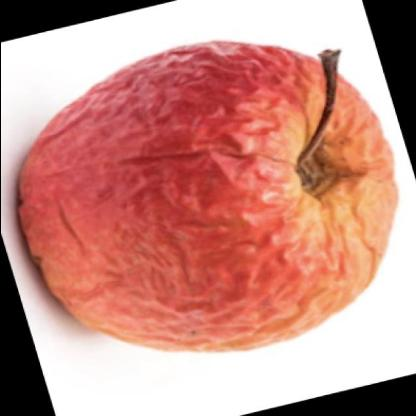defect: (32, 39, 320, 341)
